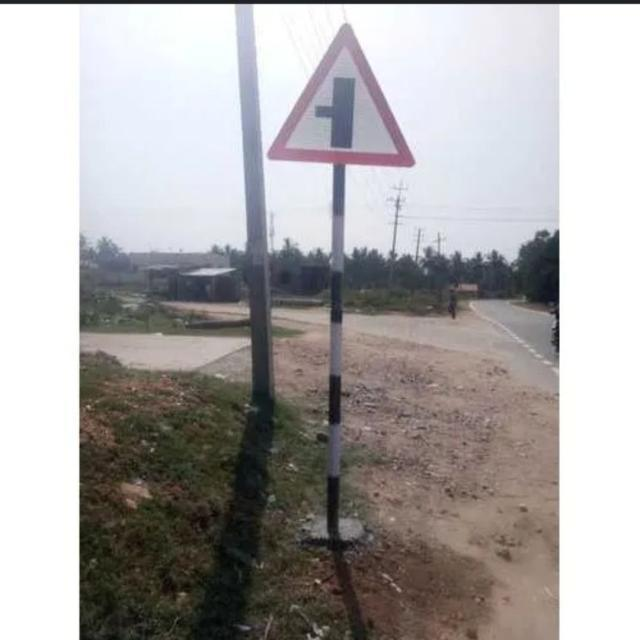side road left: (267, 19, 421, 178)
